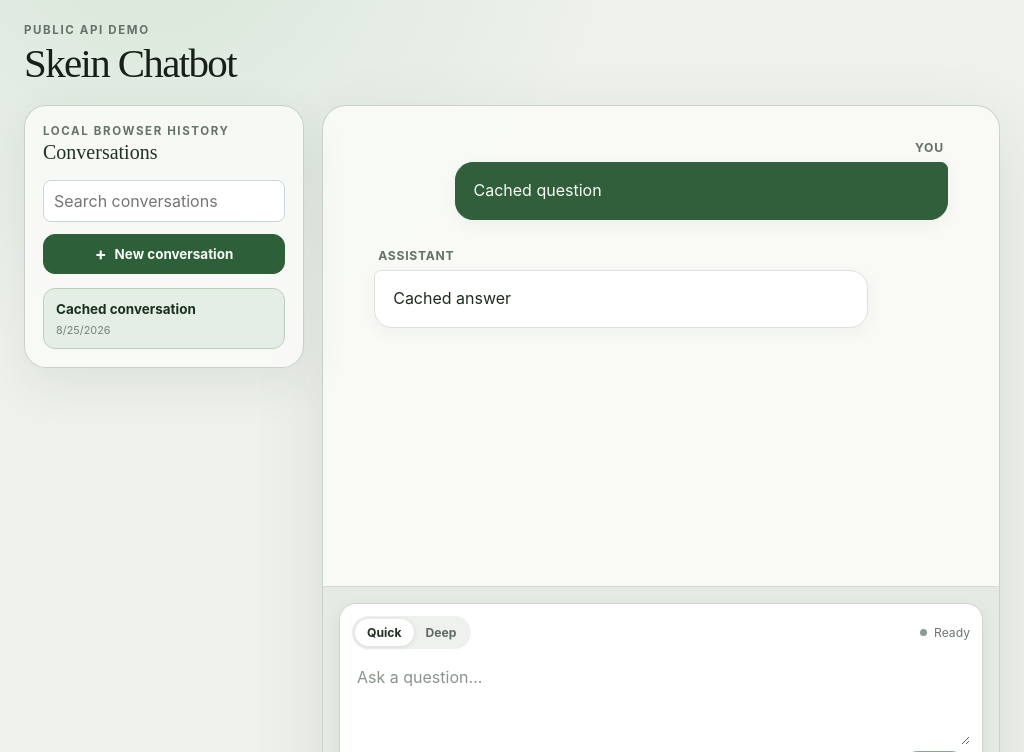
Test: App conversation persistence › does not offer an impossible recovery retry after a tokenless session is lost
Type "Continue cached session" into the text box named "Message" at (661, 701), box [352,657,970,745]
(page scrolled)
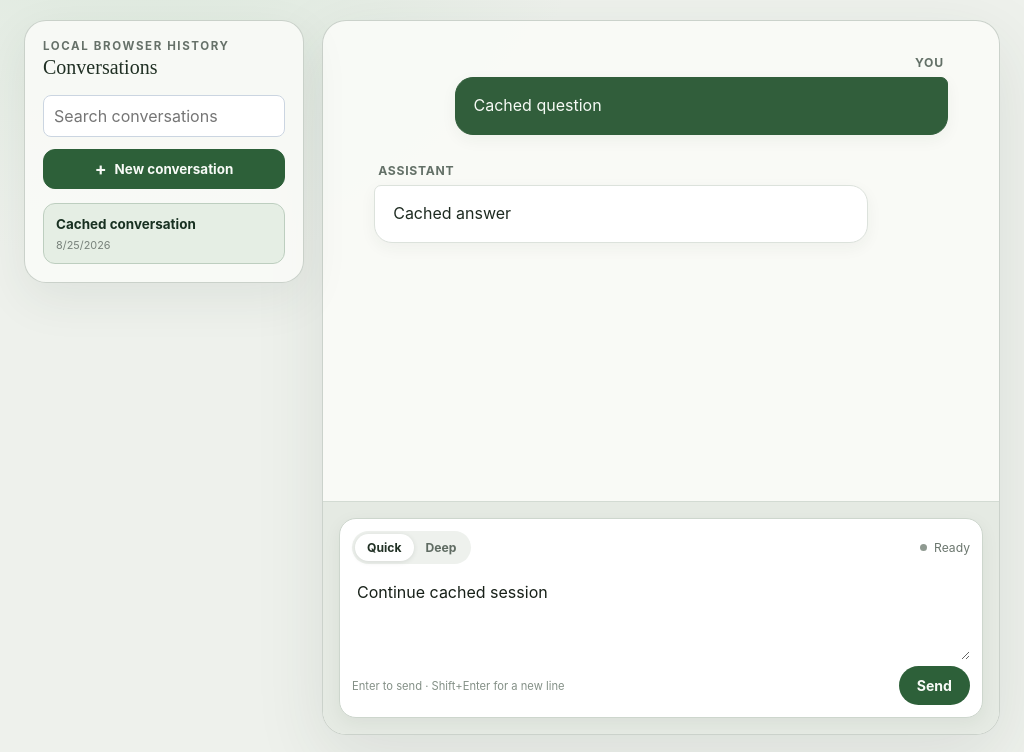
Click the button "Send" at (934, 686), box [899,666,970,705]
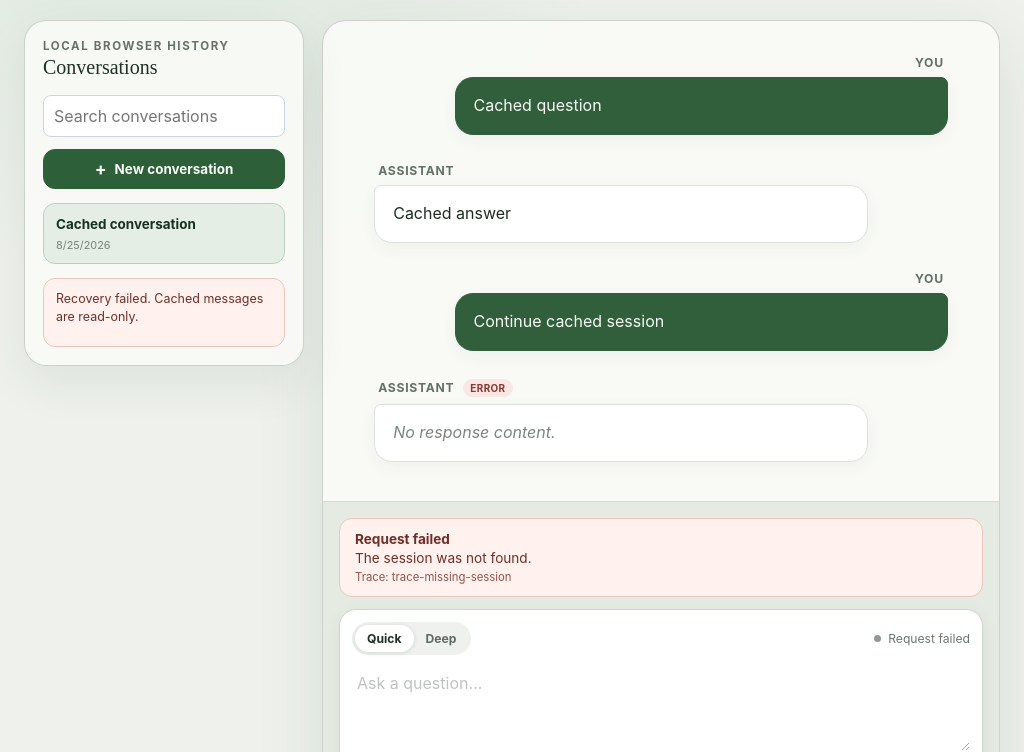
Expected: the text "Recovery failed. Cached messages are read-only." is shown, [56,290,272,326]
